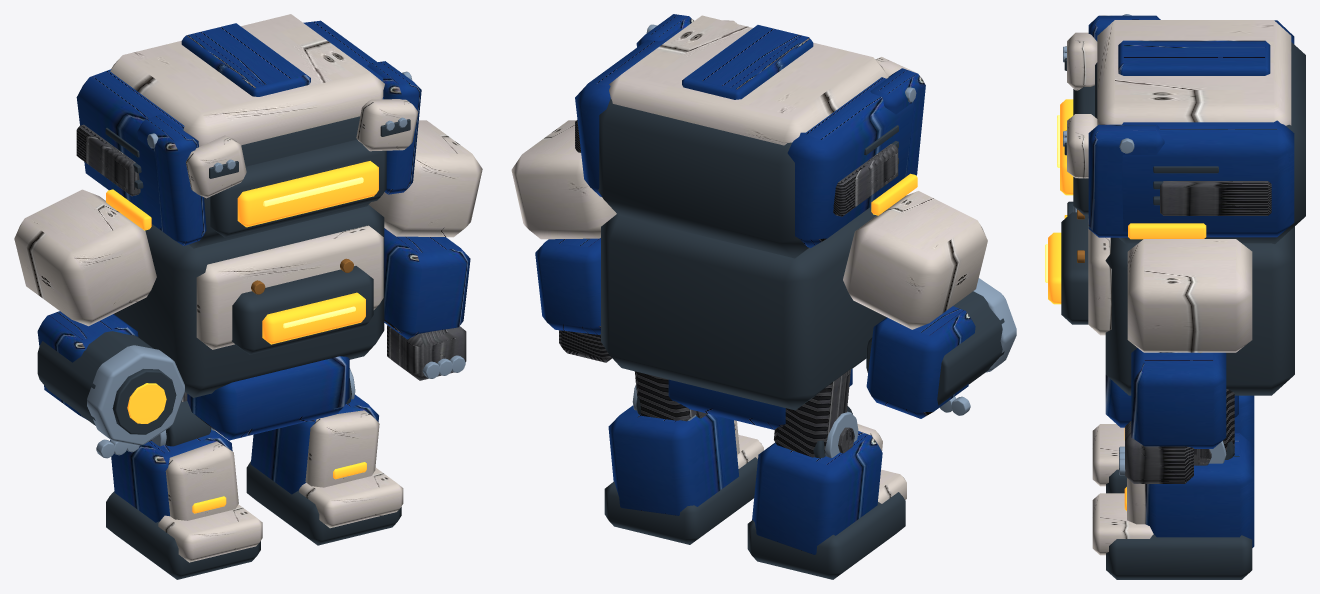
The model's file is scout_armored.glb.
3 views of the same model, side by side, from view 1: azimuth 30°, elevation 25°; view 2: azimuth 150°, elevation 25°; view 3: azimuth 270°, elevation 25° (orthographic).
Parts seen in each view (by area): view 1: Ceramic, Cobalt, Graphite, Amber optic, Ceramic.001, Ceramic.002, Machined edges, Graphite.001, Brushed steel, Cobalt.001, Graphite.002, Cobalt.002 (+1 smaller); view 2: Graphite, Ceramic, Cobalt, Cobalt.002, Cobalt.001, Graphite.001, Graphite.002, Brushed steel, Brushed steel.001, Machined edges, Brushed steel.002, Ceramic.001 (+3 smaller); view 3: Cobalt, Ceramic, Graphite, Cobalt.002, Brushed steel, Graphite.002, Amber optic, Ceramic.002, Ceramic.001, Brushed steel.002, Cobalt.001, Machined edges (+1 smaller).
Boxes of the visible parts, x1,y1,x2,y2 form: Ceramic: (14, 14, 482, 349); Cobalt: (37, 20, 470, 440); Graphite: (37, 116, 410, 434); Amber optic: (106, 161, 378, 423); Ceramic.001: (158, 441, 262, 562); Ceramic.002: (299, 410, 403, 528); Machined edges: (87, 71, 465, 458); Graphite.001: (106, 401, 260, 579); Brushed steel: (76, 124, 466, 380); Cobalt.001: (110, 429, 232, 522); Graphite.002: (246, 378, 401, 545); Cobalt.002: (250, 394, 378, 494); Graphite: (586, 98, 1004, 410); Ceramic: (511, 15, 987, 329); Cobalt: (535, 14, 975, 429); Cobalt.002: (608, 405, 738, 515); Cobalt.001: (752, 431, 882, 554); Graphite.001: (747, 406, 905, 579); Graphite.002: (604, 395, 757, 544); Brushed steel: (559, 120, 898, 362); Brushed steel.001: (774, 369, 854, 457); Machined edges: (646, 24, 1016, 415); Brushed steel.002: (634, 371, 707, 421); Ceramic.001: (857, 424, 906, 503); Cobalt: (1088, 15, 1294, 448); Ceramic: (1067, 20, 1291, 352); Graphite: (1061, 42, 1305, 395); Cobalt.002: (1145, 433, 1254, 547); Brushed steel: (1125, 181, 1271, 483); Graphite.002: (1106, 441, 1252, 579); Amber optic: (1048, 99, 1206, 304); Ceramic.002: (1092, 478, 1153, 555); Ceramic.001: (1092, 424, 1124, 486); Brushed steel.002: (1194, 388, 1234, 465); Cobalt.001: (1234, 395, 1254, 445); Machined edges: (1063, 14, 1134, 475).
Size of the model in its own units: 1.14 by 1.21 by 0.6055.
Materials: 8 (3 with a texture image).
